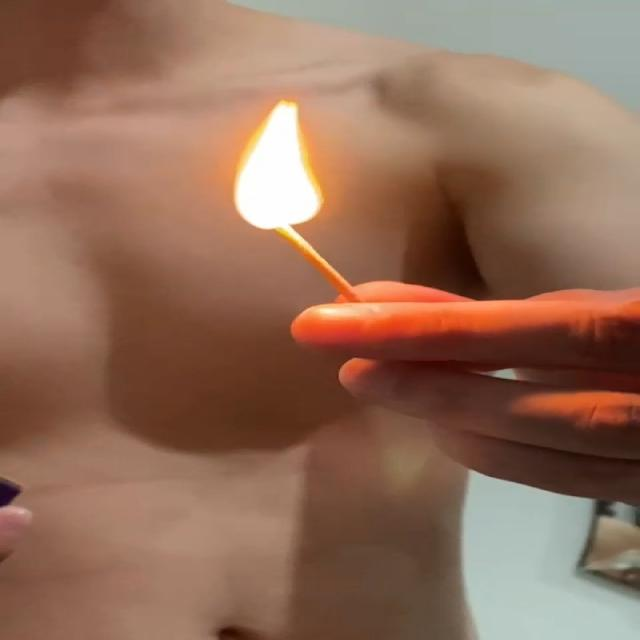fogo-ypXI: (230, 95, 326, 234)
